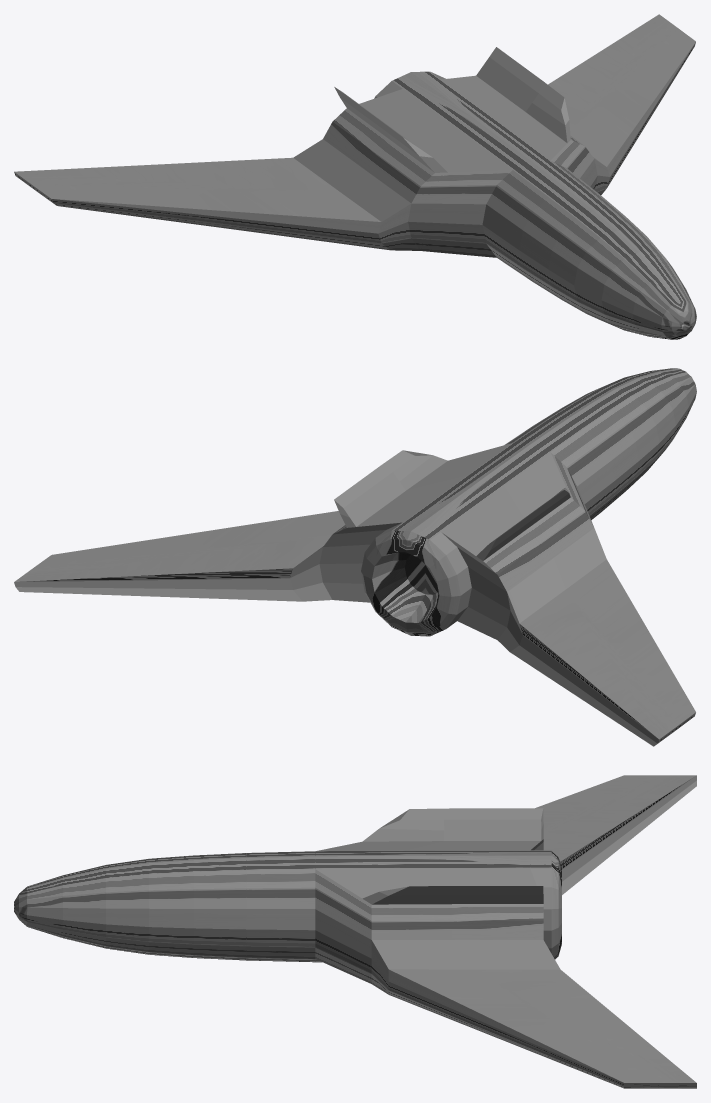
File: groza.glb
3 renders of one model, top to bottom at view 1: azimuth 30°, elevation 25°; view 2: azimuth 150°, elevation 25°; view 3: azimuth 270°, elevation 25°, orthographic. The views are drawn at different scales.
Visible parts, largest first — view 1: Groza; view 2: Groza; view 3: Groza.
Boxes of the visible parts, x1=… form: Groza: x1=14, y1=14, x2=696, y2=339; Groza: x1=14, y1=368, x2=696, y2=746; Groza: x1=14, y1=775, x2=696, y2=1088.
Bounding box in the file's own units: 10.46 × 1.75 × 9.81.
1 material, 1 textured.
